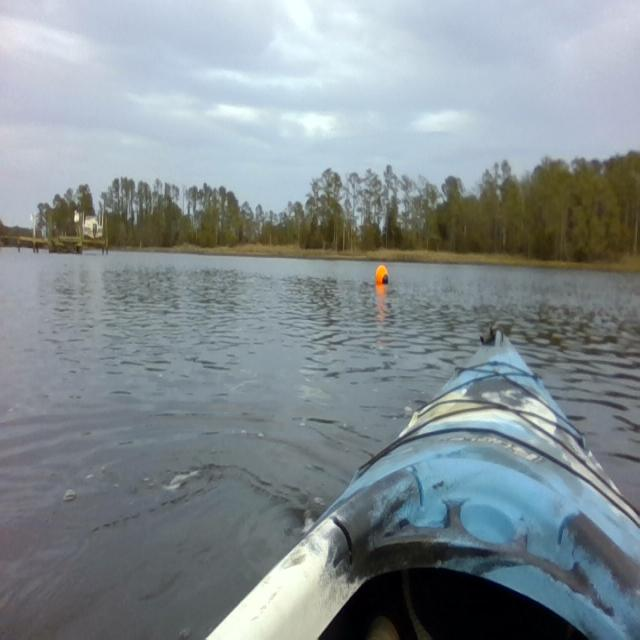Buoy: (375, 264, 390, 286)
